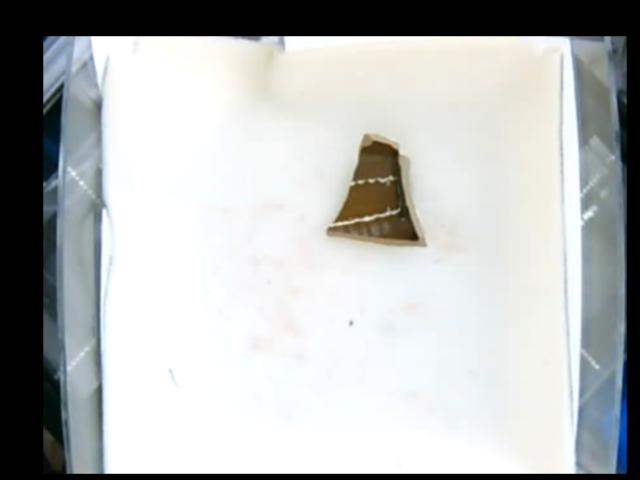China: (327, 133, 427, 250)
